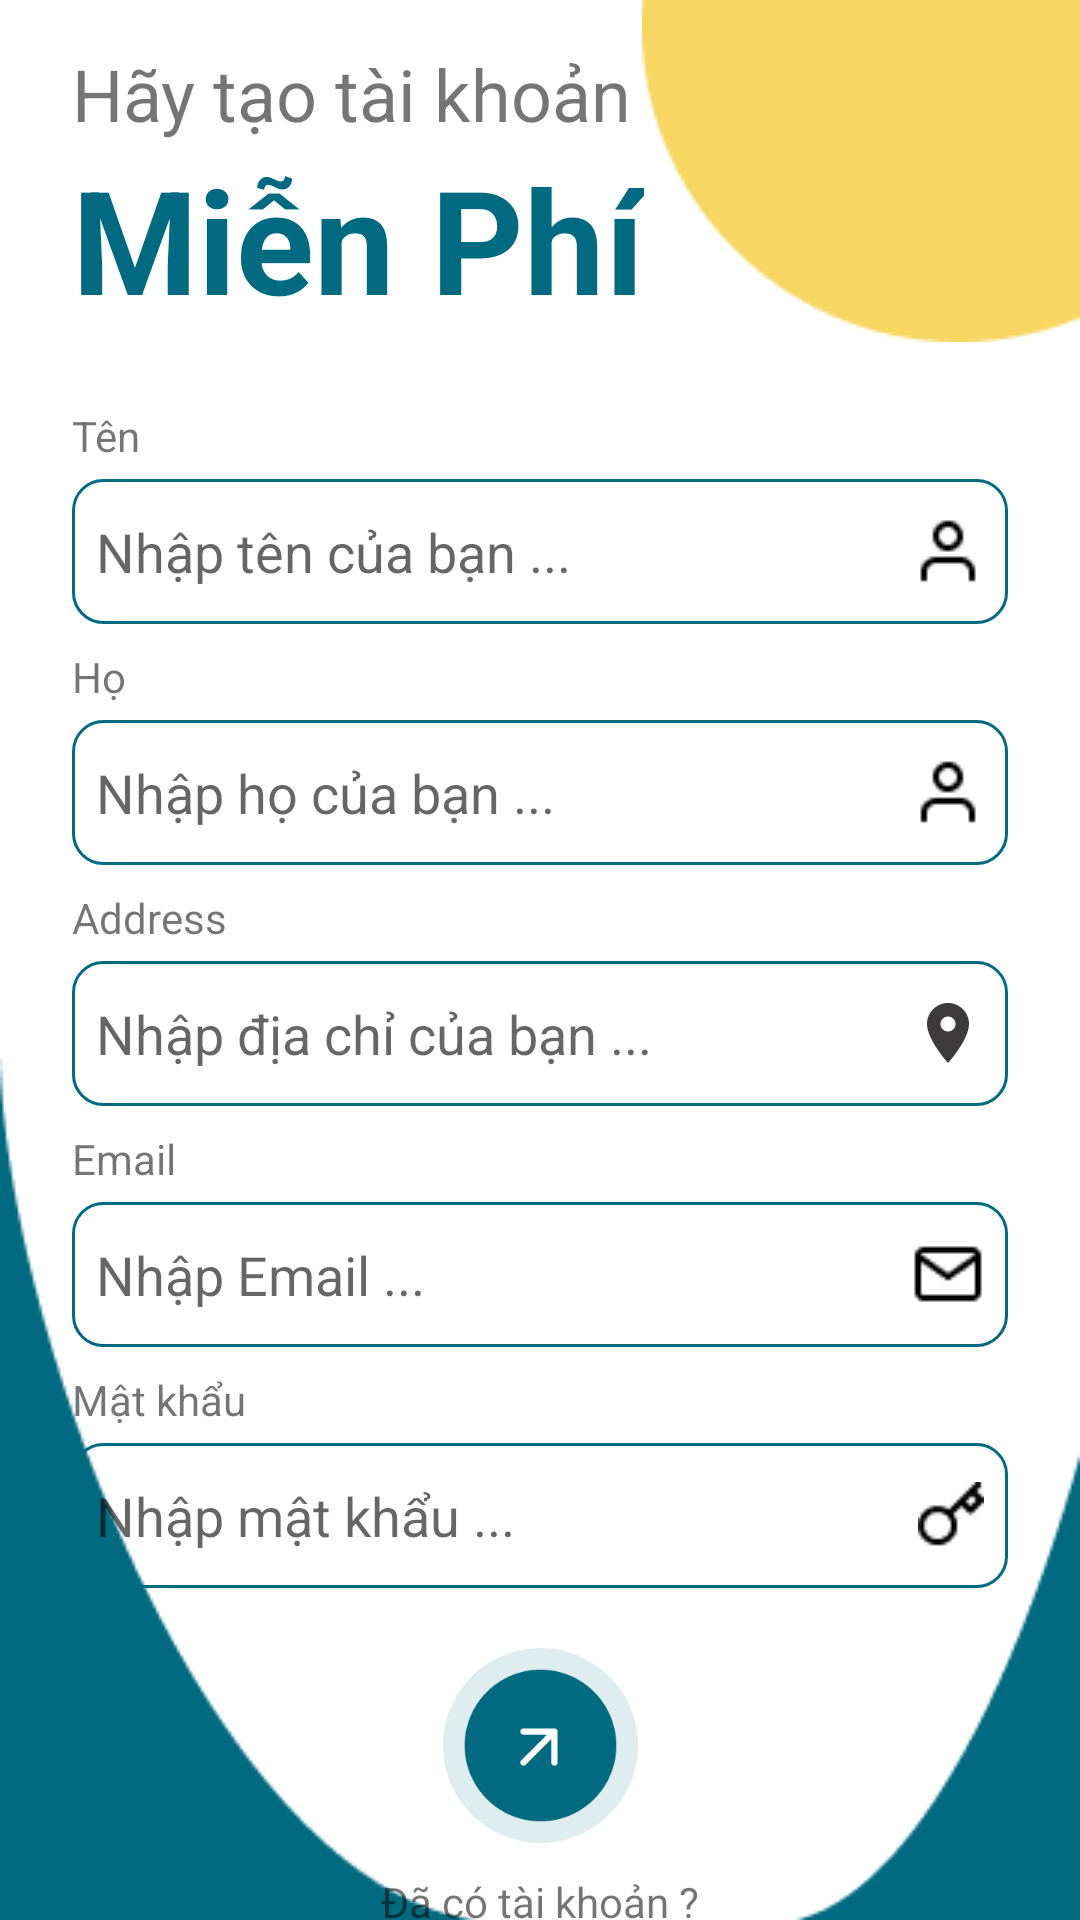

Point at icon controls on the screen. Image size 1080 x 1920, points as (x,y).
forward: (540,1745)
